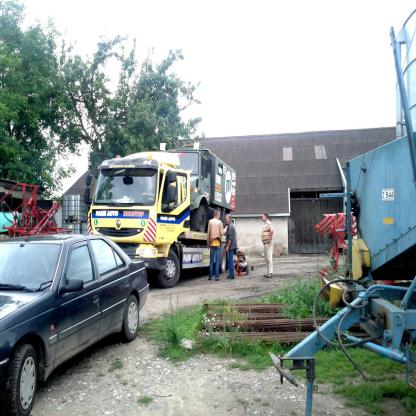Car: (0, 233, 150, 416)
Truck: (87, 142, 236, 288)
